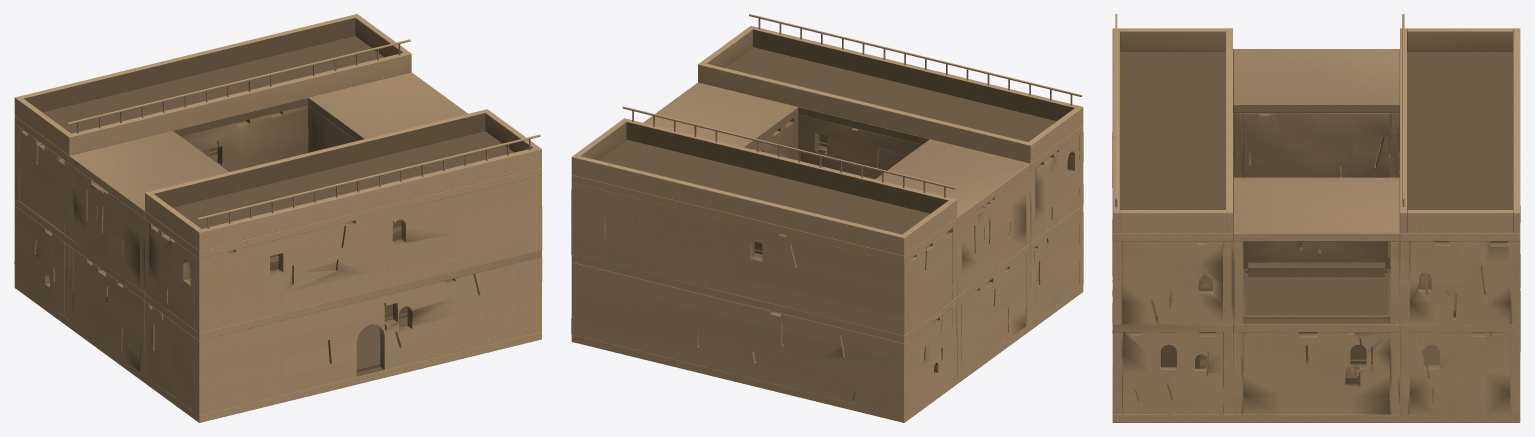
The model's file is riad_26.glb.
3 views of the same model, side by side, from view 1: azimuth 30°, elevation 25°; view 2: azimuth 150°, elevation 25°; view 3: azimuth 270°, elevation 25° (orthographic). The views are drawn at different scales.
Parts seen in each view (by area): view 1: riad; view 2: riad; view 3: riad.
Part boxes in pixels (bbox=[...]): riad: bbox=[14, 14, 542, 422]; riad: bbox=[571, 14, 1083, 422]; riad: bbox=[1112, 14, 1520, 422].
Size of the model in its own units: 18.37 by 10.41 by 17.13.
Materials: 1 (1 with a texture image).
